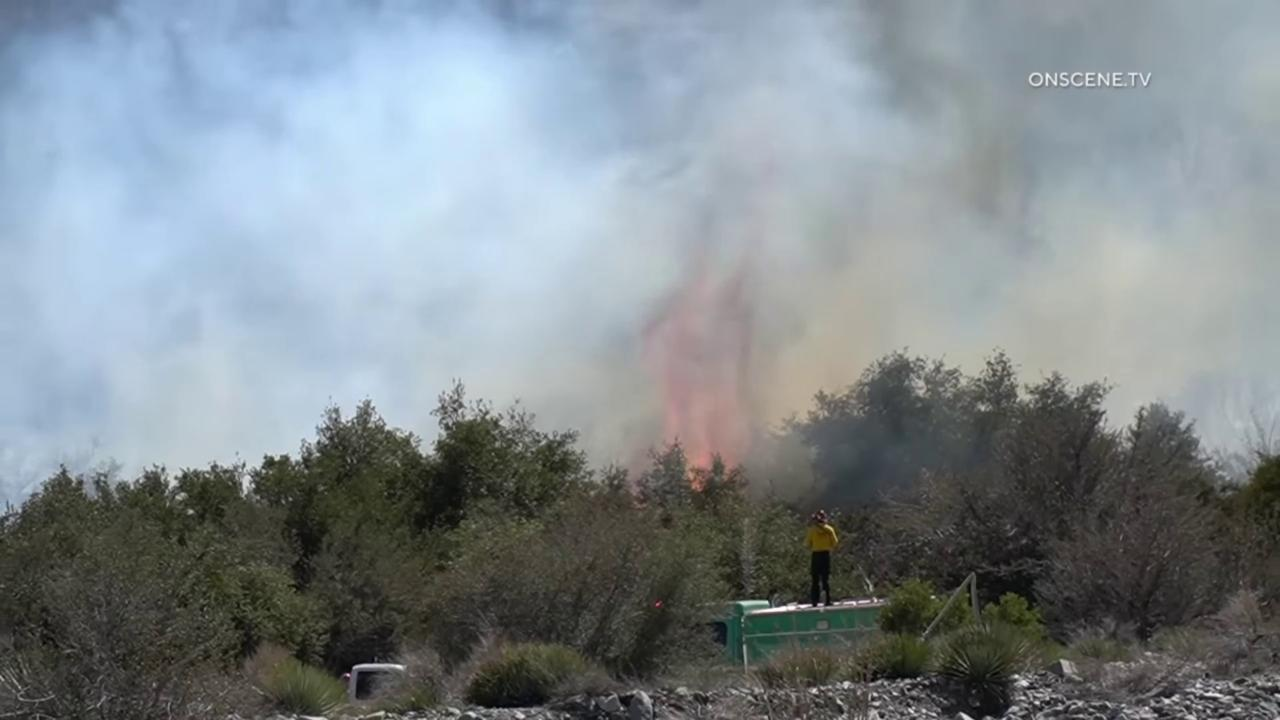fire: (665, 380, 736, 493), (655, 600, 662, 608)
smoke: (0, 0, 1280, 517)
